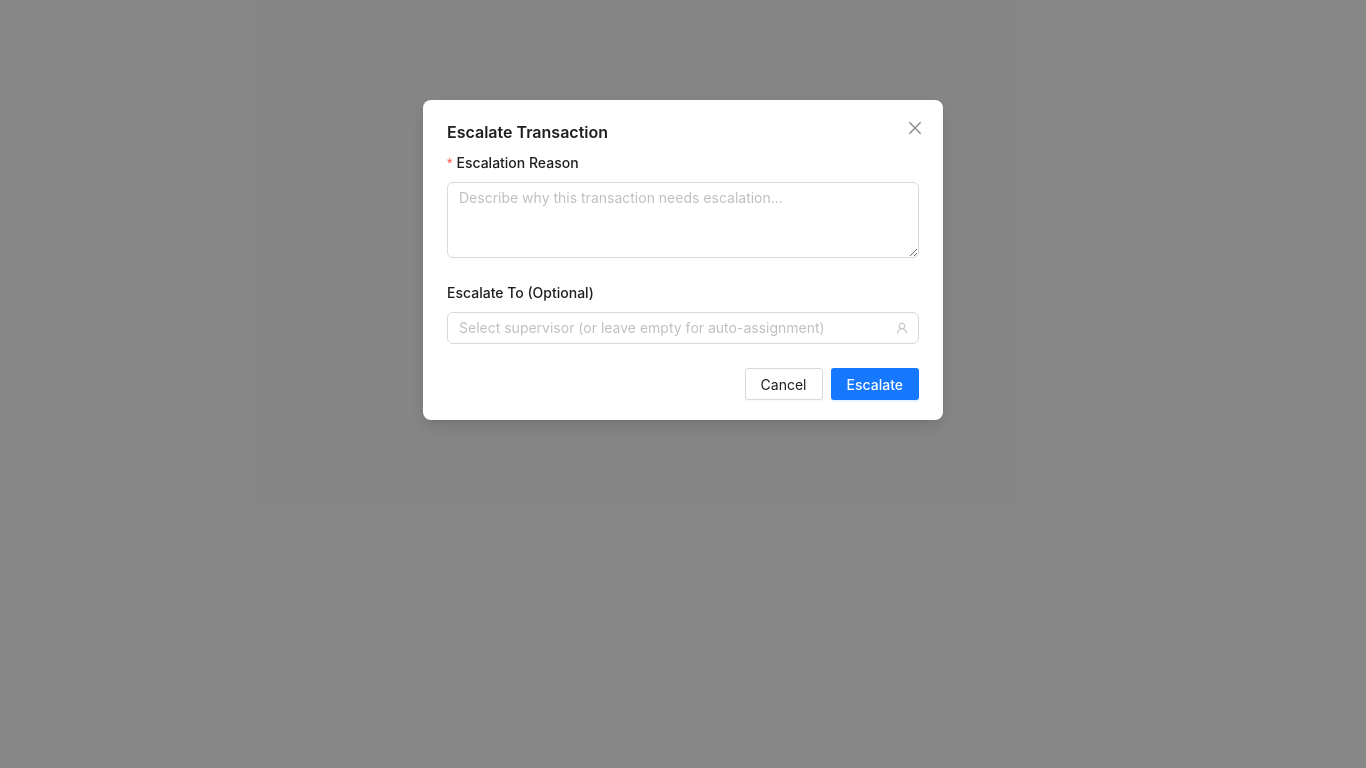
Test: EscalateModal › Supervisor selection › displays all mock supervisors in dropdown
Press the mouse on the dropdown at (674, 328), box [459,313,889,343]
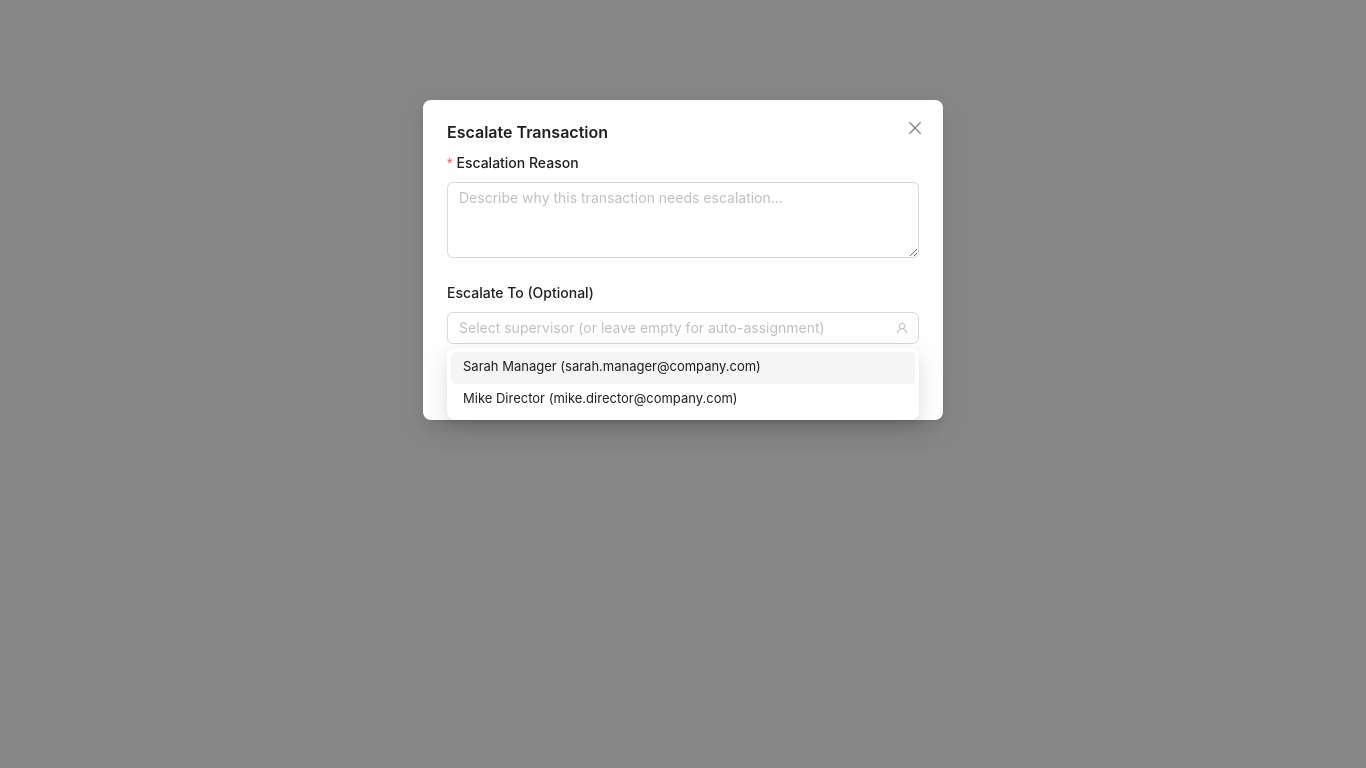
Expected: the text "Sarah Manager (sarah.manager@company.com)" is shown, [463,358,761,374]
Expected: the text "Mike Director (mike.director@company.com)" is shown, [463,390,738,406]
